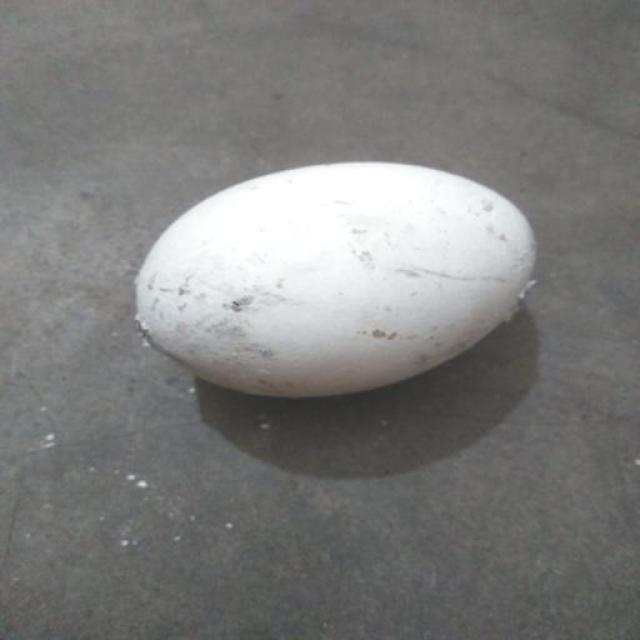telur: (132, 157, 540, 397)
